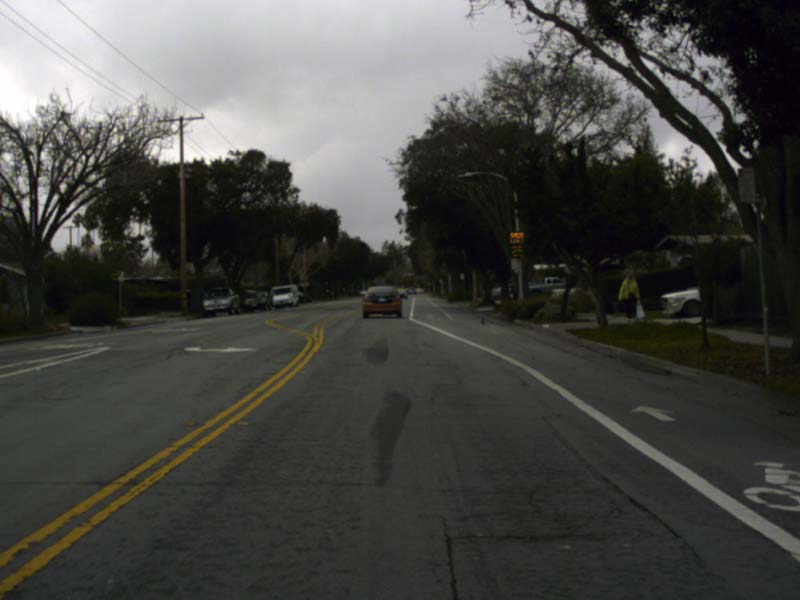Red: (410, 270, 415, 279)
